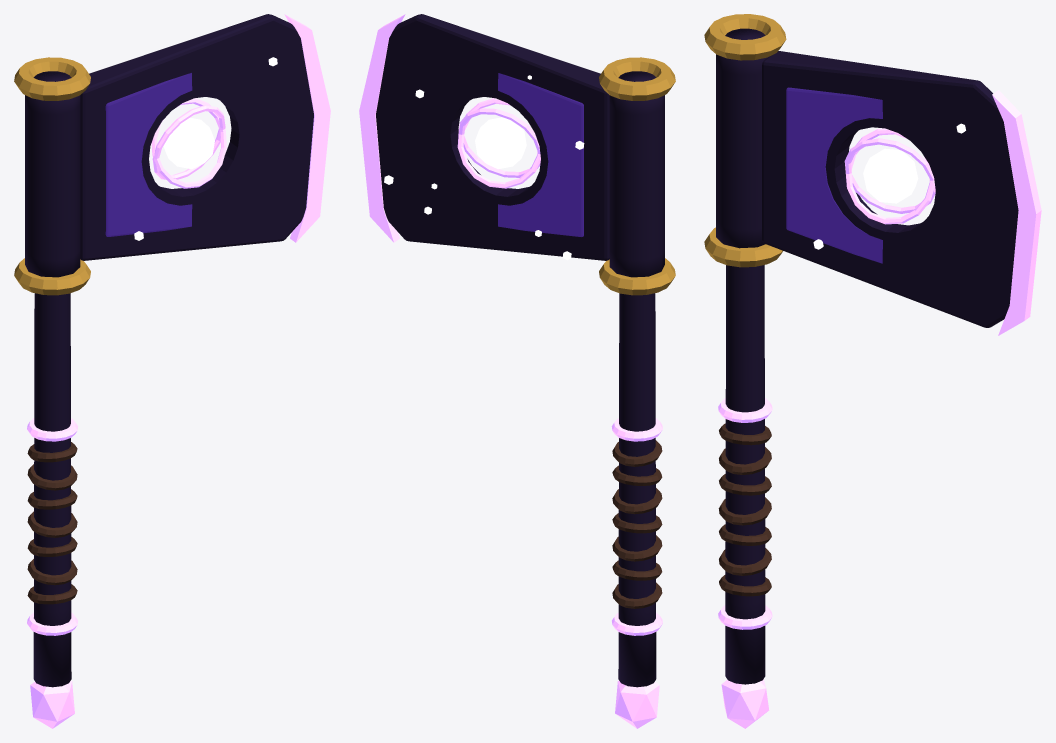
File: voidcleaver.glb
The picture shows the model from 3 angles, left to right: view 1: azimuth 30°, elevation 25°; view 2: azimuth 150°, elevation 25°; view 3: azimuth 330°, elevation 25°; orthographic projection. The views are drawn at different scales.
Parts seen in each view (by area): view 1: AX4_Plate, AX4_Haft, AX4_Socket, AX4_Field, AX4_Edge, AX4_Socket_Top, AX4_Star, AX4_Pommel, AX4_Socket_Bot, AX4_Orbit0, AX4_Orbit1, AX4_Glow1 (+8 smaller); view 2: AX4_Plate, AX4_Haft, AX4_Socket, AX4_Field, AX4_Edge, AX4_Socket_Top, AX4_Star, AX4_Pommel, AX4_Socket_Bot, AX4_Orbit0, AX4_Orbit1, AX4_Glow1 (+8 smaller); view 3: AX4_Plate, AX4_Haft, AX4_Field, AX4_Socket, AX4_Edge, AX4_Socket_Top, AX4_Star, AX4_Pommel, AX4_Socket_Bot, AX4_Orbit1, AX4_Orbit0, AX4_Glow1 (+8 smaller).
Part boxes in pixels (x1=…): AX4_Plate: x1=80, y1=14, x2=313, y2=260; AX4_Haft: x1=33, y1=72, x2=71, y2=687; AX4_Socket: x1=25, y1=71, x2=80, y2=277; AX4_Field: x1=105, y1=73, x2=192, y2=236; AX4_Edge: x1=284, y1=14, x2=330, y2=242; AX4_Socket_Top: x1=14, y1=57, x2=90, y2=100; AX4_Star: x1=163, y1=117, x2=214, y2=169; AX4_Pommel: x1=30, y1=680, x2=74, y2=728; AX4_Socket_Bot: x1=14, y1=258, x2=90, y2=295; AX4_Orbit0: x1=151, y1=98, x2=226, y2=188; AX4_Orbit1: x1=152, y1=105, x2=225, y2=179; AX4_Glow1: x1=27, y1=418, x2=78, y2=441; AX4_Plate: x1=376, y1=14, x2=609, y2=260; AX4_Haft: x1=618, y1=72, x2=656, y2=687; AX4_Socket: x1=609, y1=71, x2=664, y2=277; AX4_Field: x1=498, y1=73, x2=583, y2=236; AX4_Edge: x1=359, y1=14, x2=405, y2=242; AX4_Socket_Top: x1=599, y1=57, x2=675, y2=100; AX4_Star: x1=475, y1=117, x2=526, y2=169; AX4_Pommel: x1=615, y1=680, x2=659, y2=728; AX4_Socket_Bot: x1=599, y1=258, x2=675, y2=295; AX4_Orbit0: x1=458, y1=108, x2=540, y2=177; AX4_Orbit1: x1=457, y1=98, x2=540, y2=188; AX4_Glow1: x1=611, y1=418, x2=662, y2=441; AX4_Plate: x1=762, y1=51, x2=1018, y2=327; AX4_Haft: x1=725, y1=29, x2=765, y2=684; AX4_Field: x1=786, y1=87, x2=882, y2=263; AX4_Socket: x1=716, y1=28, x2=769, y2=248; AX4_Edge: x1=992, y1=90, x2=1041, y2=335; AX4_Socket_Top: x1=704, y1=14, x2=786, y2=60; AX4_Star: x1=863, y1=148, x2=918, y2=203; AX4_Pommel: x1=721, y1=679, x2=769, y2=728; AX4_Socket_Bot: x1=704, y1=227, x2=782, y2=267; AX4_Orbit1: x1=844, y1=138, x2=935, y2=213; AX4_Orbit0: x1=845, y1=128, x2=934, y2=224; AX4_Glow1: x1=718, y1=398, x2=772, y2=422.
Size of the model in its own units: 0.5666 by 1.16 by 0.1232.
